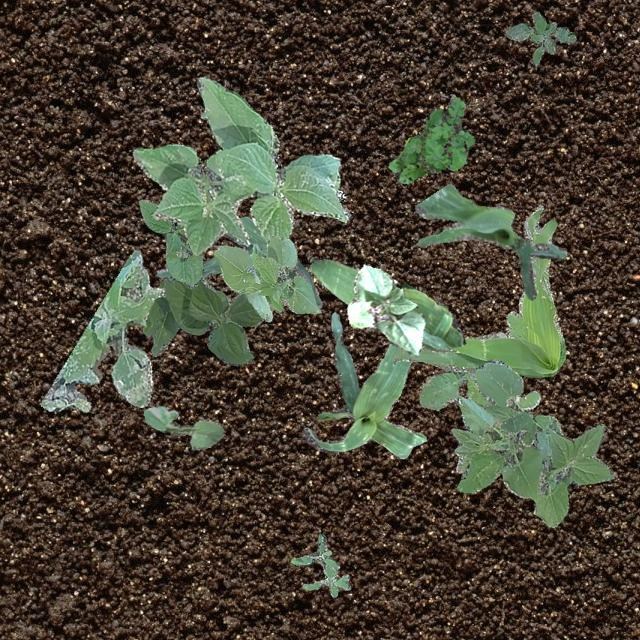crop: (132, 76, 350, 254), (302, 310, 426, 458), (414, 182, 566, 298), (156, 215, 322, 308), (308, 256, 464, 348), (449, 359, 562, 472), (142, 274, 262, 364), (212, 234, 320, 320), (346, 264, 424, 356), (138, 198, 202, 288), (142, 404, 224, 450)
weed: (392, 204, 564, 376), (38, 248, 160, 412), (456, 412, 614, 526), (388, 93, 474, 183), (418, 370, 540, 410), (504, 10, 576, 64), (290, 532, 350, 596), (200, 110, 207, 118)
